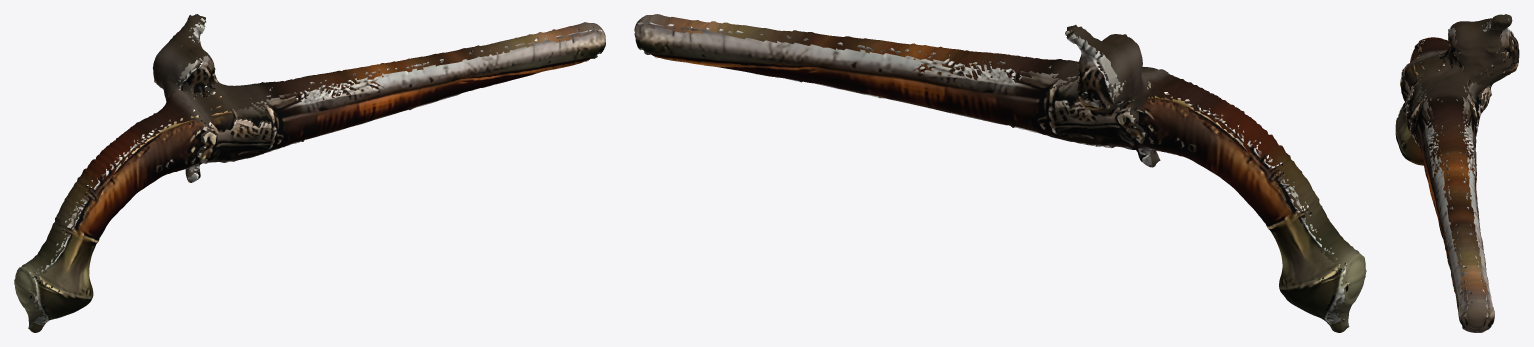
File: kfl-2238.glb
The picture shows the model from 3 angles, left to right: view 1: azimuth 30°, elevation 25°; view 2: azimuth 150°, elevation 25°; view 3: azimuth 270°, elevation 25°; orthographic projection. The views are drawn at different scales.
Visible parts, largest first — view 1: kfl-2238; view 2: kfl-2238; view 3: kfl-2238.
Part boxes in pixels (x1,y1,x2,y2): kfl-2238: [14, 14, 605, 332]; kfl-2238: [634, 14, 1366, 332]; kfl-2238: [1395, 14, 1519, 332].
Bounding box in the file's own units: 0.9931 × 0.3808 × 0.1717.
4 materials, 4 textured.
